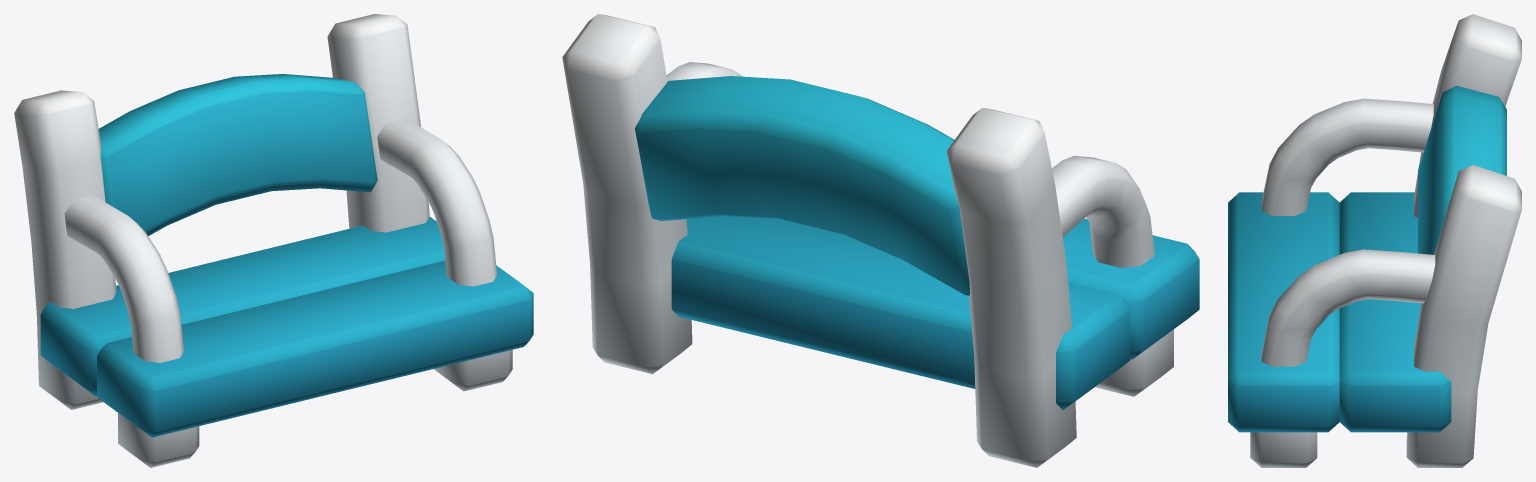
File: bench_A.gltf
3 views of the same model, side by side, from view 1: azimuth 30°, elevation 25°; view 2: azimuth 150°, elevation 25°; view 3: azimuth 270°, elevation 25° (orthographic). The views are drawn at different scales.
Parts seen in each view (by area): view 1: bench_A; view 2: bench_A; view 3: bench_A.
Part boxes in pixels (left/top/right/bottom): bench_A: left=14, top=14, right=533, bottom=467; bench_A: left=562, top=14, right=1199, bottom=467; bench_A: left=1228, top=14, right=1521, bottom=467.
Size of the model in its own units: 2 by 1.41 by 1.32.
Materials: 1 (1 with a texture image).
